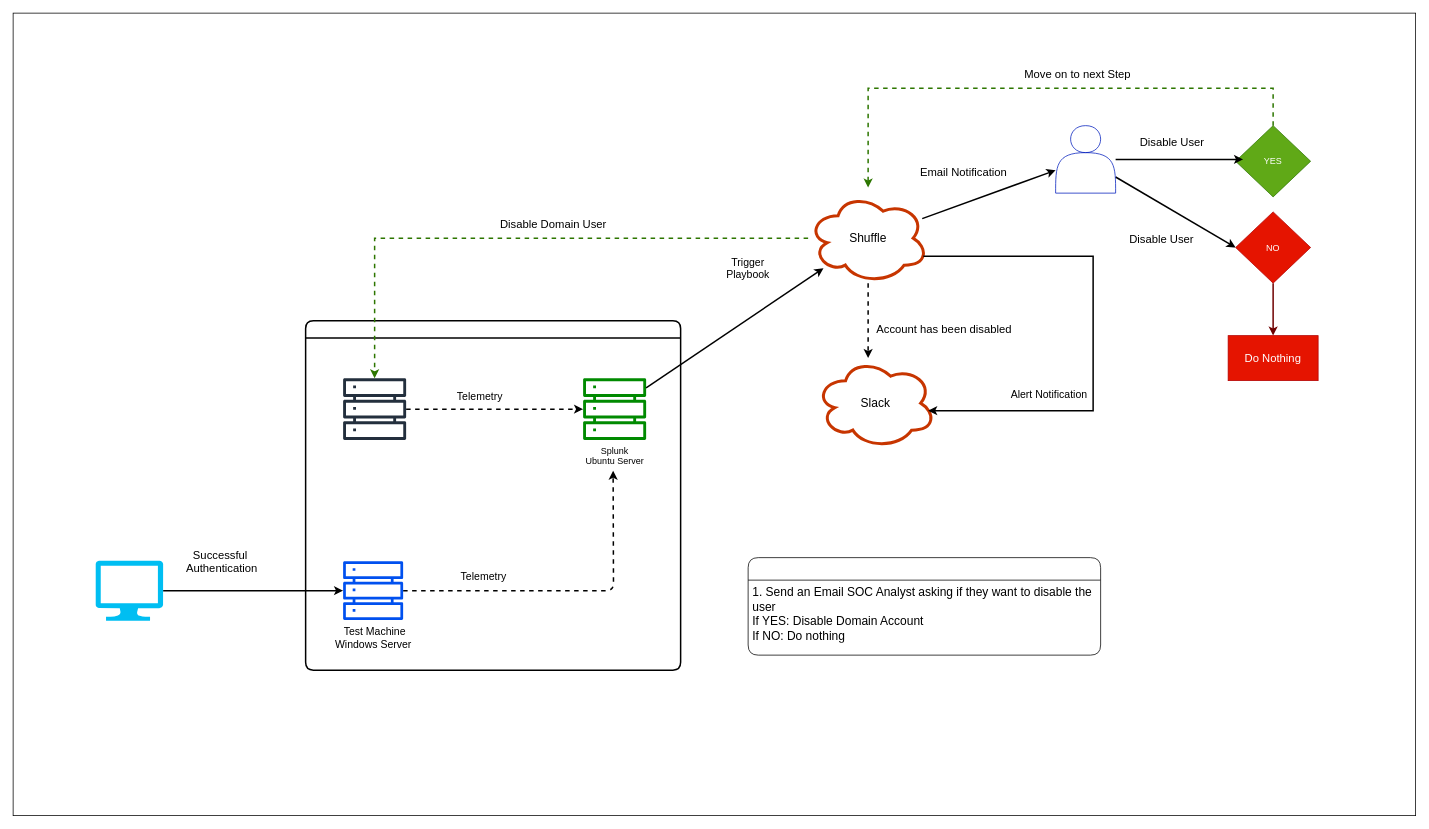
Some shapes in this 1429 by 829 pixel diagram are drawn without their labels. Each missing label, with the box of its shape:
Attacker Machine: (95, 560, 163, 620)
Domain Controller Windows Server: (343, 377, 406, 440)
Successful Unauthorized Login Playbook: (747, 557, 1101, 655)
Vultr Virtual Machines: (304, 320, 681, 670)
